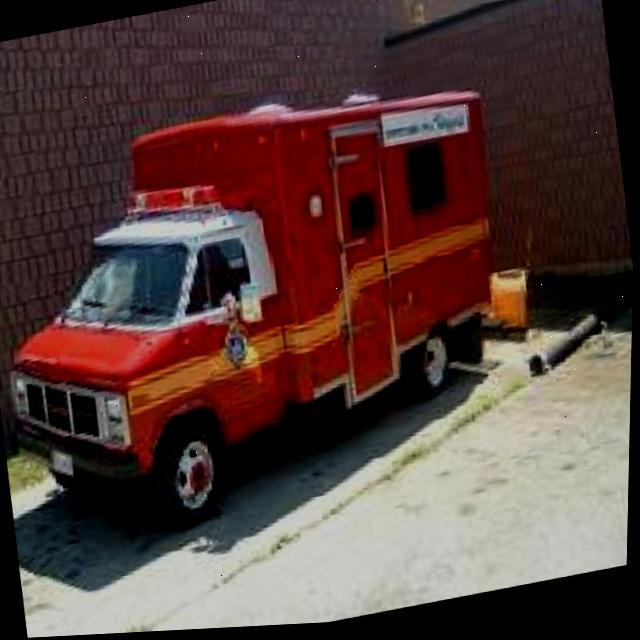emergency: (0, 61, 541, 560)
